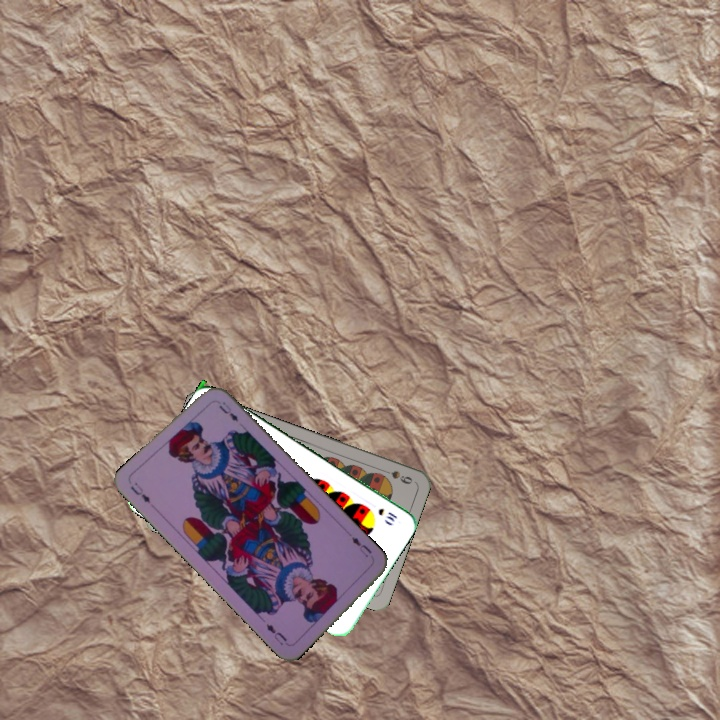EU: (347, 532, 375, 560), (126, 478, 153, 506)
S10: (374, 504, 400, 524)
S9: (377, 465, 415, 487)
